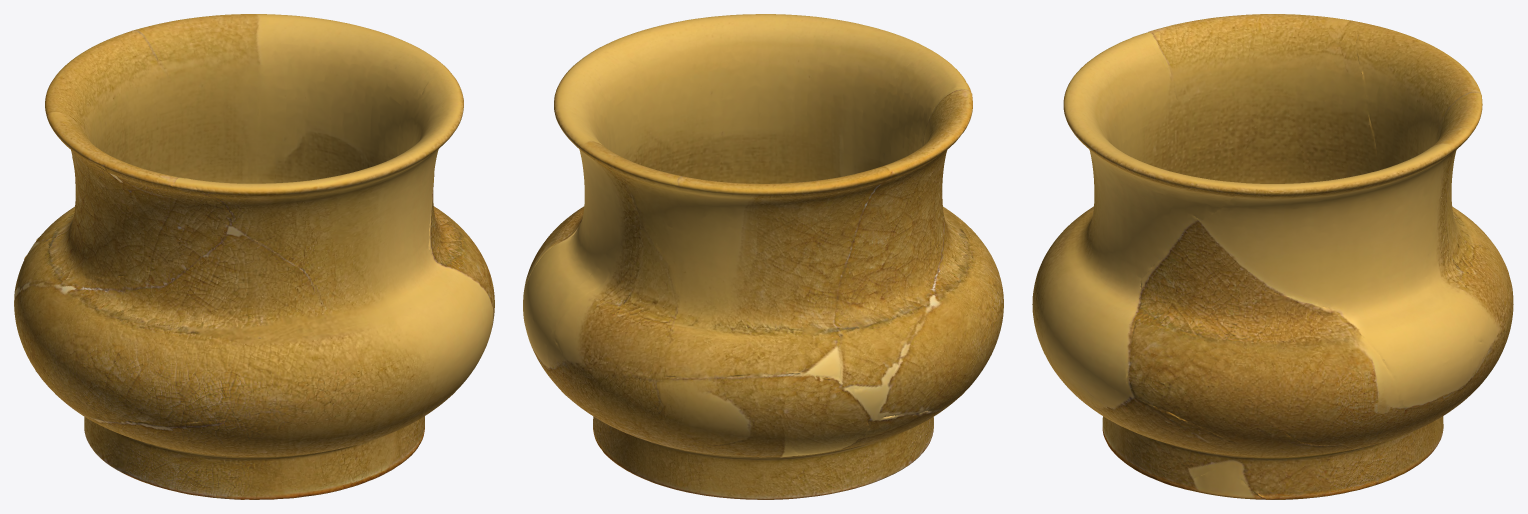
The model's file is assets__models__plaster-1.glb.
The picture shows the model from 3 angles, left to right: view 1: azimuth 30°, elevation 25°; view 2: azimuth 150°, elevation 25°; view 3: azimuth 270°, elevation 25°; orthographic projection.
Parts seen in each view (by area): view 1: tripo_node_ab7d9c10-2fa2-48b9-b99b-25a5a5db039b; view 2: tripo_node_ab7d9c10-2fa2-48b9-b99b-25a5a5db039b; view 3: tripo_node_ab7d9c10-2fa2-48b9-b99b-25a5a5db039b.
Boxes of the visible parts, bbox=[...] form: tripo_node_ab7d9c10-2fa2-48b9-b99b-25a5a5db039b: bbox=[14, 14, 494, 499]; tripo_node_ab7d9c10-2fa2-48b9-b99b-25a5a5db039b: bbox=[523, 14, 1003, 499]; tripo_node_ab7d9c10-2fa2-48b9-b99b-25a5a5db039b: bbox=[1032, 14, 1513, 499].
Size of the model in its own units: 1 by 0.7545 by 1.
Materials: 1 (1 with a texture image).
